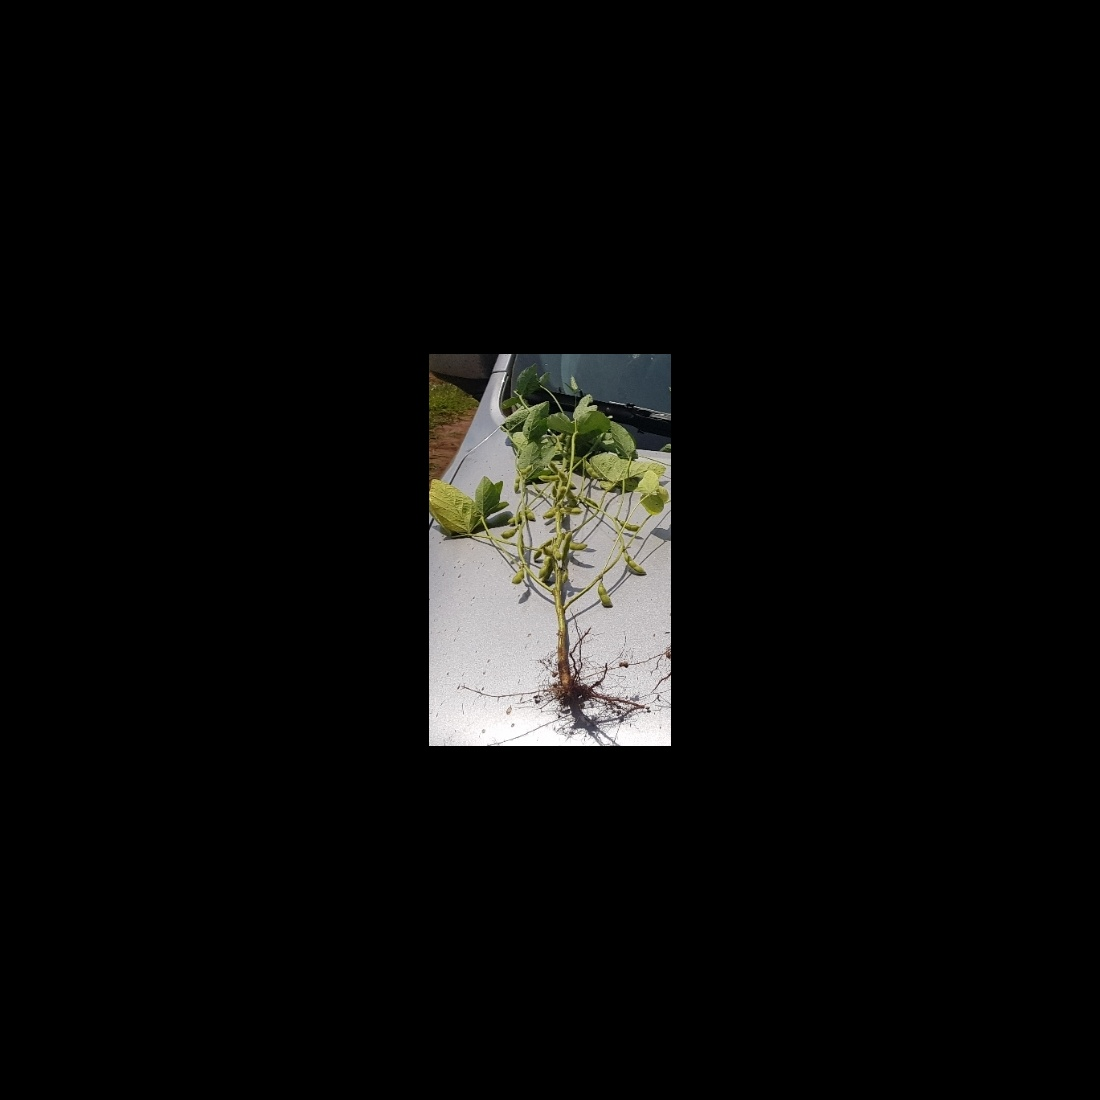pod: (622, 546, 648, 579), (597, 577, 615, 612), (584, 458, 601, 483), (508, 568, 526, 589), (614, 518, 641, 532), (499, 528, 518, 540), (536, 474, 561, 483)
soy: (455, 372, 660, 716)
